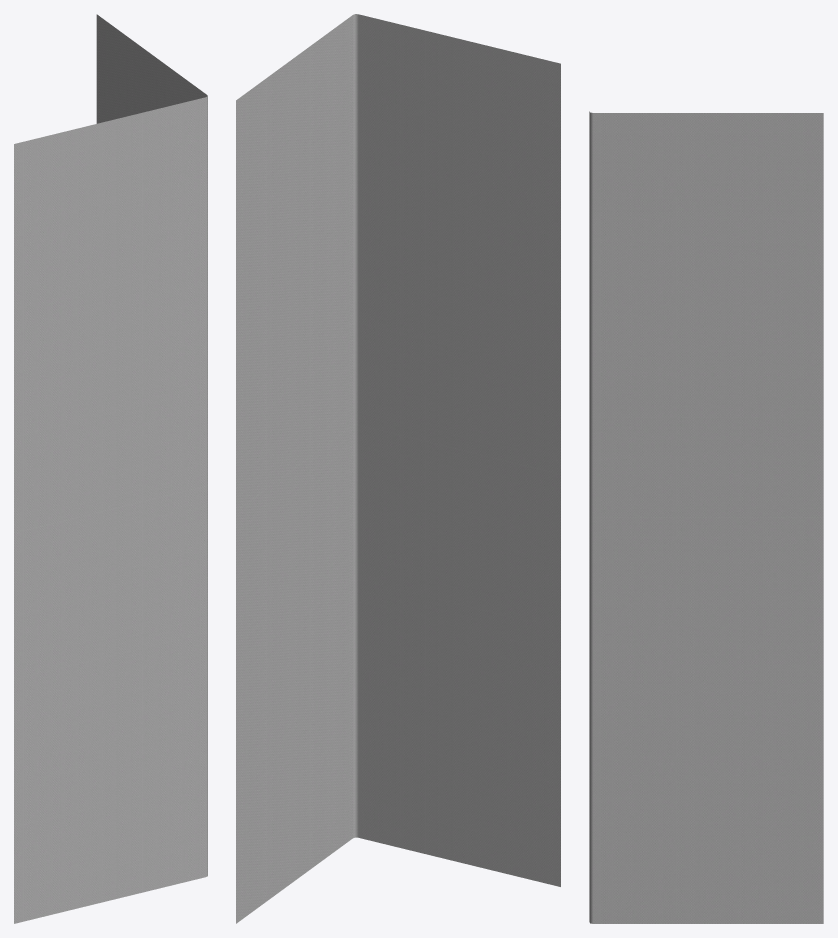
The model's file is waitingroom_white_convex_short.dae.
3 renders of one model, left to right at view 1: azimuth 30°, elevation 25°; view 2: azimuth 150°, elevation 25°; view 3: azimuth 270°, elevation 25°, orthographic. The views are drawn at different scales.
Parts seen in each view (by area): view 1: polySurface43; view 2: polySurface43; view 3: polySurface43.
Boxes of the visible parts, x1,y1,x2,y2 form: polySurface43: [14, 14, 207, 923]; polySurface43: [236, 14, 560, 923]; polySurface43: [589, 111, 823, 923].
Bounding box in the file's own units: 1 × 3.82 × 1.
Materials: 1 (1 with a texture image).
